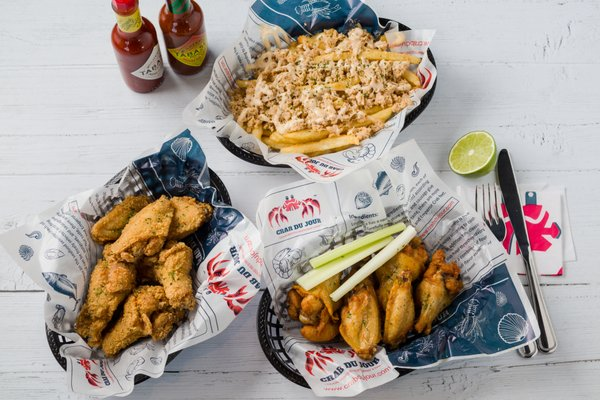sandwich: (498, 148, 558, 359)
